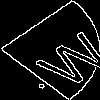W: (25, 24, 100, 90)
